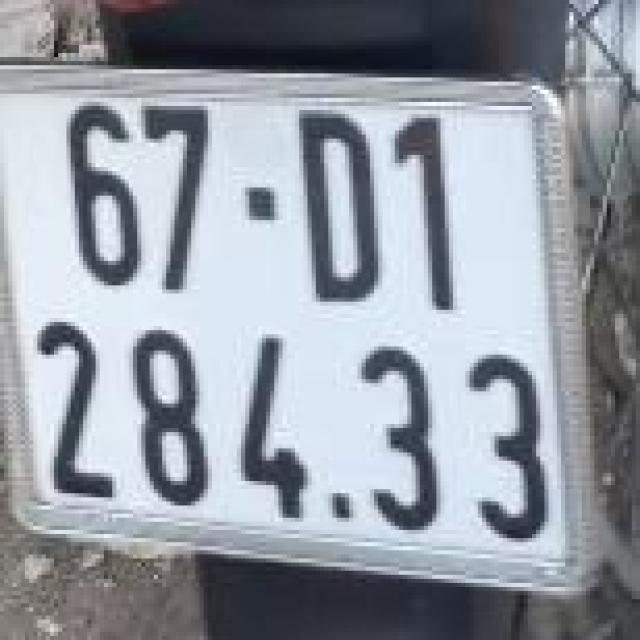1: (392, 112, 472, 328)
2: (21, 302, 120, 501)
3: (345, 342, 449, 550), (463, 340, 559, 544)
4: (227, 306, 331, 526)
6: (58, 94, 146, 289)
7: (144, 84, 218, 296)
8: (129, 318, 224, 522)
D: (276, 100, 393, 316)
